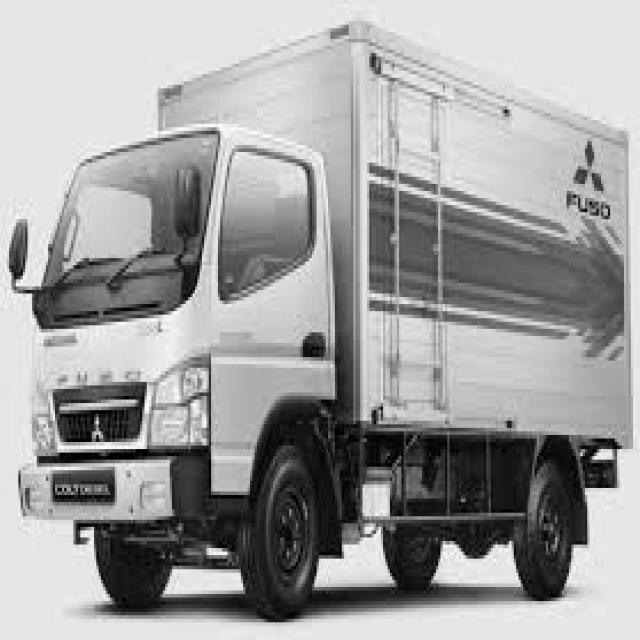truck: (7, 110, 365, 635)
